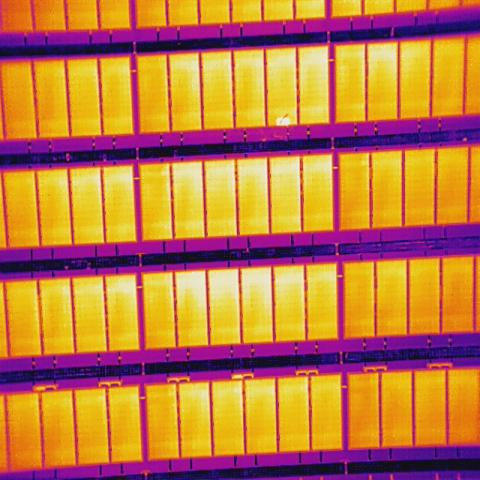fault: (275, 114, 291, 128)
